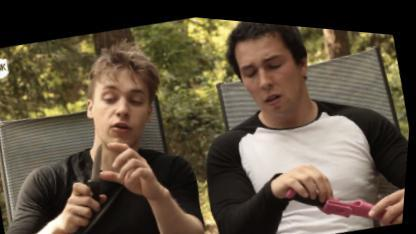knife: (61, 132, 122, 218)
